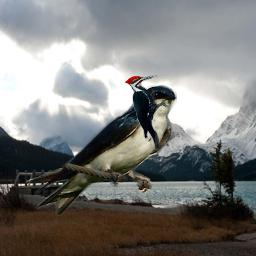Swallow: (26, 85, 177, 216)
Woodpecker: (125, 74, 169, 148)
